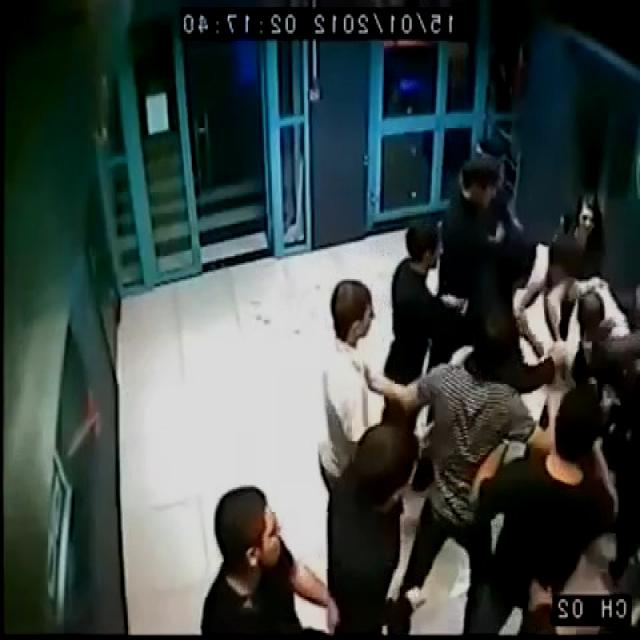fight: (427, 169, 640, 481)
